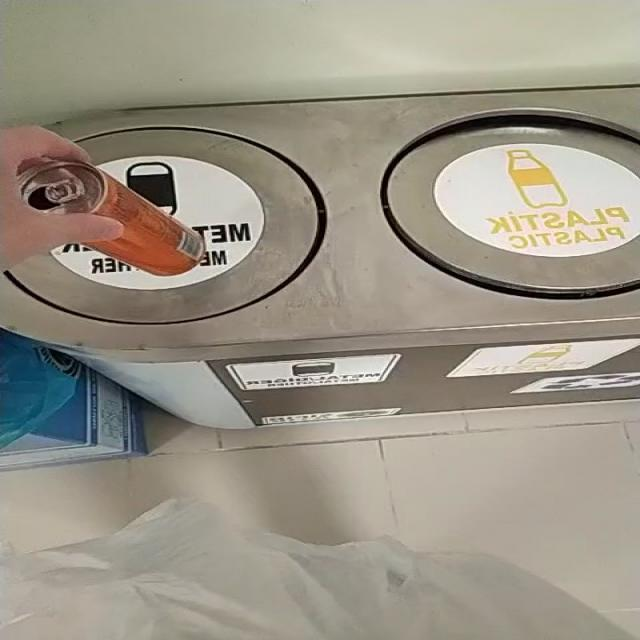Bin: (0, 86, 640, 430)
Metal: (17, 160, 204, 276)
